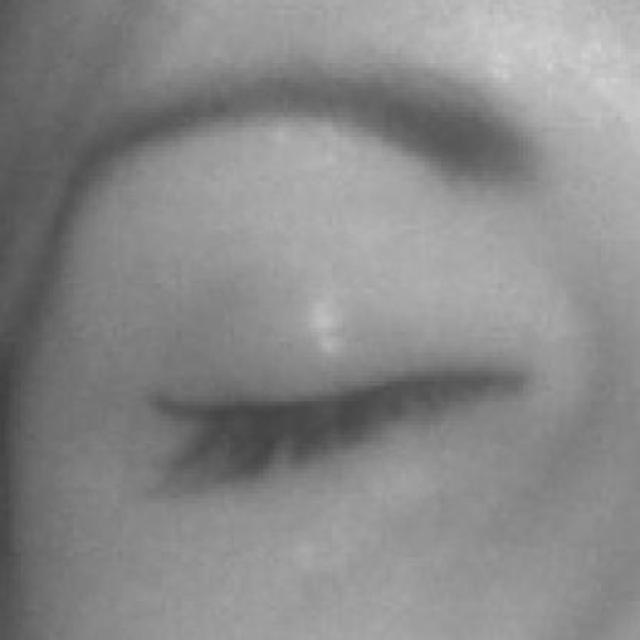drowsy: (119, 240, 553, 552)
